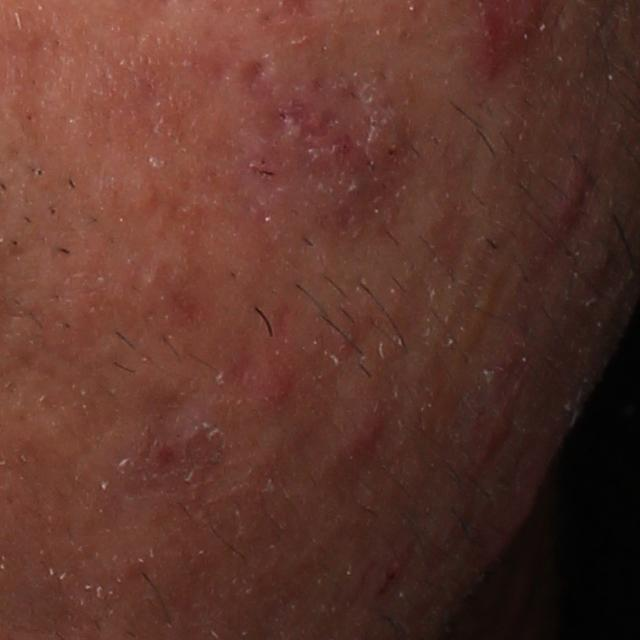atrophic_scar: (229, 52, 264, 91)
nodule: (270, 54, 410, 239)
papule: (465, 384, 525, 476), (476, 480, 534, 572), (245, 347, 303, 417), (556, 142, 597, 224), (352, 382, 391, 458)
